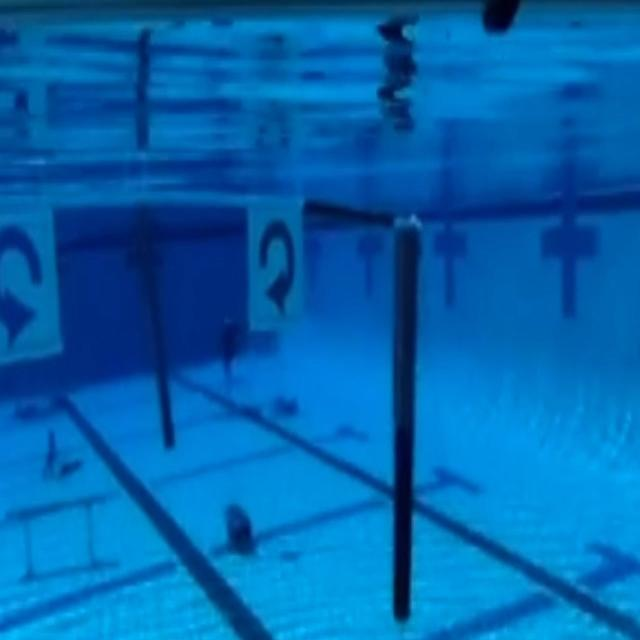Gate: (0, 177, 418, 618)
